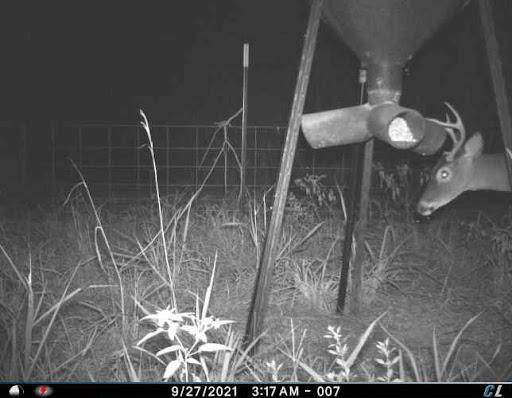Deer: (404, 96, 512, 228)
